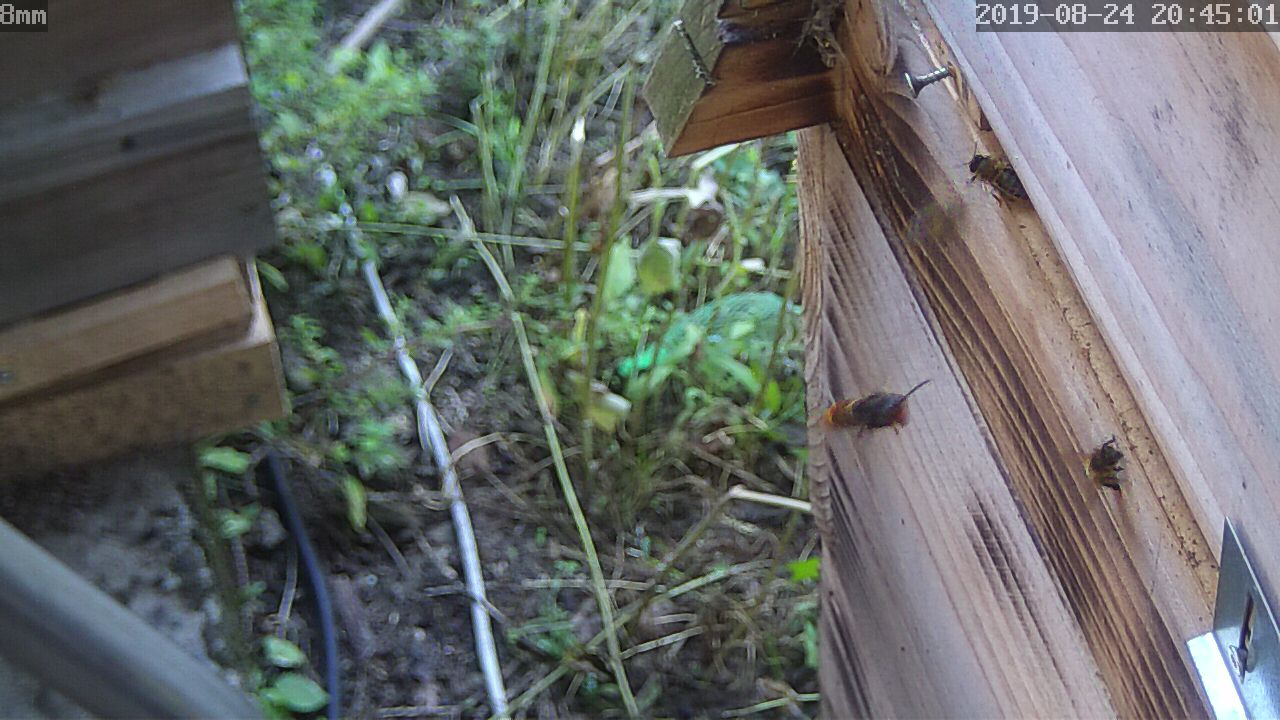bee: (956, 144, 1031, 209), (1073, 429, 1132, 497)
hornet: (813, 376, 925, 444)
